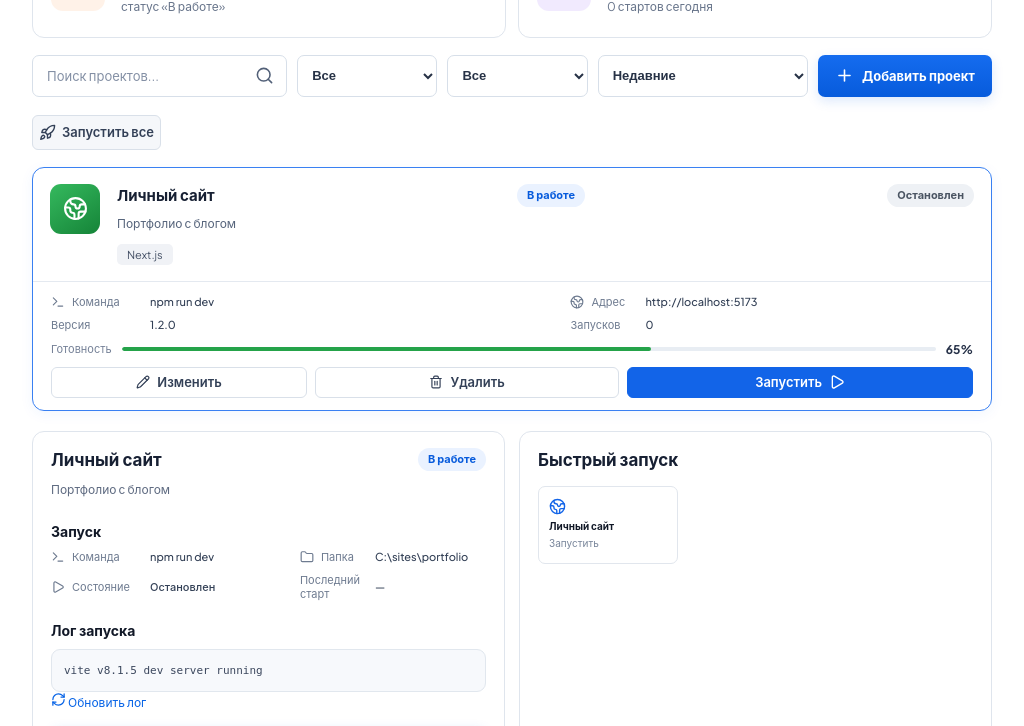
Test case: страница «Мои проекты» › сообщает об ошибке запуска вместо молчания
(page scrolled)
# Точное имя: /Запустить/ совпало бы ещё с «Запустить все» и «Запустить проект».
Click the button "Запустить": coordinates (800, 382) x1=627 y1=367 x2=973 y2=398
(page scrolled)
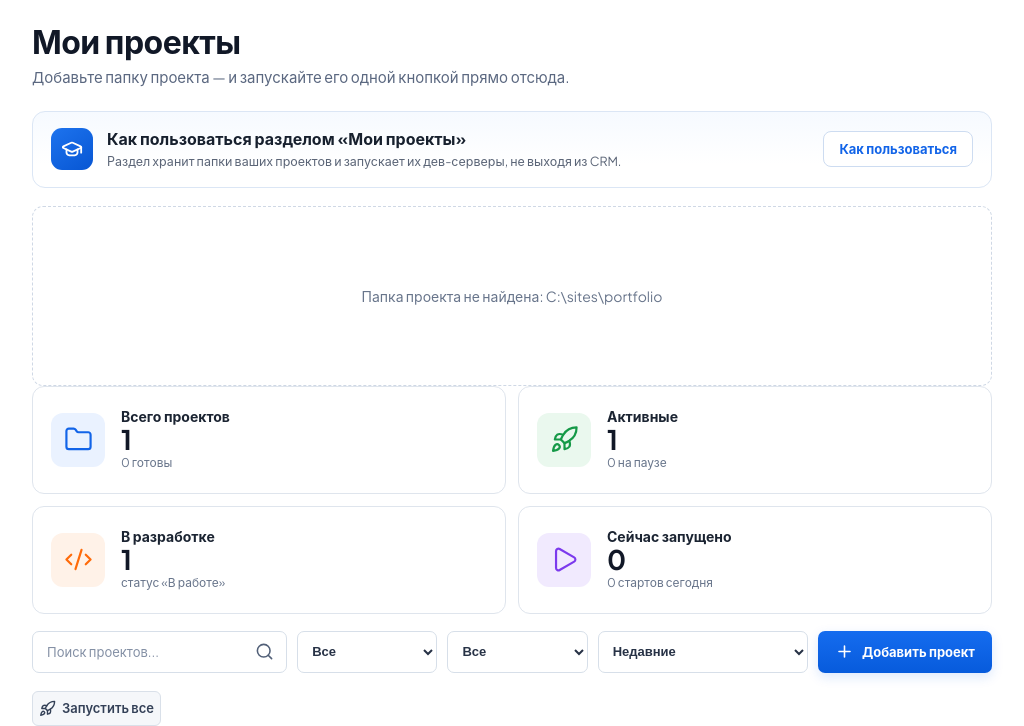
Now the message shows "Папка проекта не найдена", box x1=362 y1=287 x2=662 y2=305
